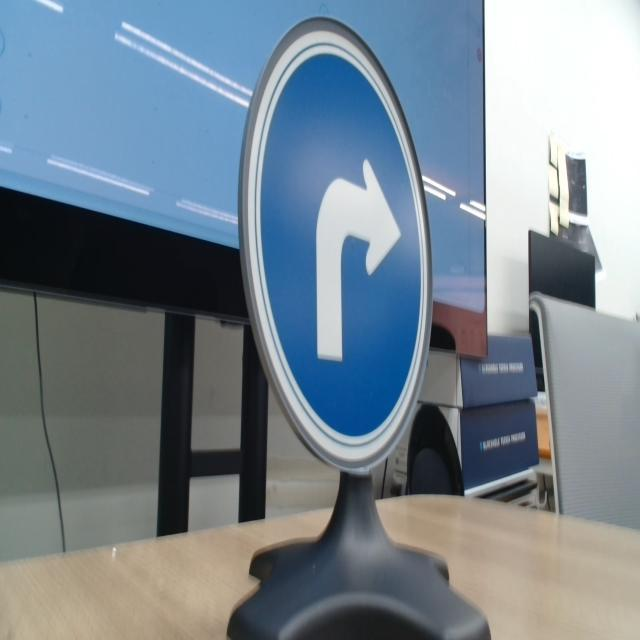right_dierection: (228, 0, 478, 564)
